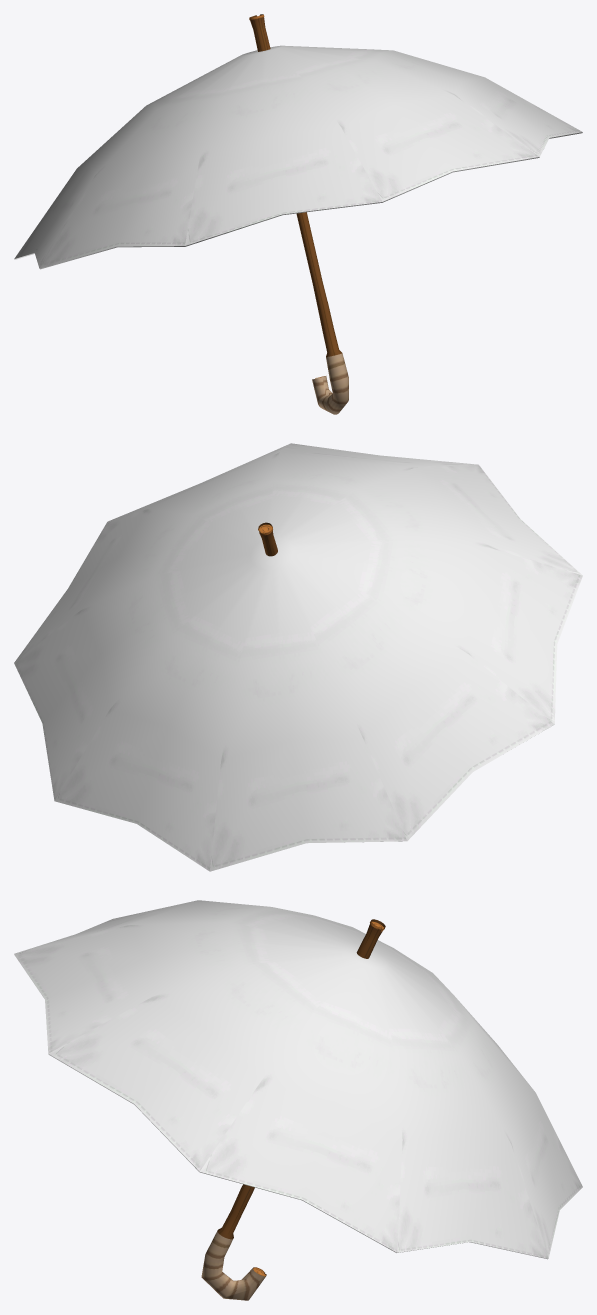
Rendered from Umbrella.fbx.
3 views of the same model, one above another, from view 1: azimuth 30°, elevation 25°; view 2: azimuth 150°, elevation 25°; view 3: azimuth 270°, elevation 25° (orthographic). The views are drawn at different scales.
Visible parts, largest first — view 1: Capsule (1), Capsule; view 2: Capsule (1); view 3: Capsule (1), Capsule.
Boxes of the visible parts, x1,y1,x2,y2 form: Capsule (1): (14, 45, 582, 269); Capsule: (249, 14, 348, 414); Capsule (1): (14, 443, 582, 871); Capsule (1): (14, 900, 582, 1259); Capsule: (201, 919, 385, 1300).
Bounding box in the file's own units: 4.54 × 3.06 × 4.2.
